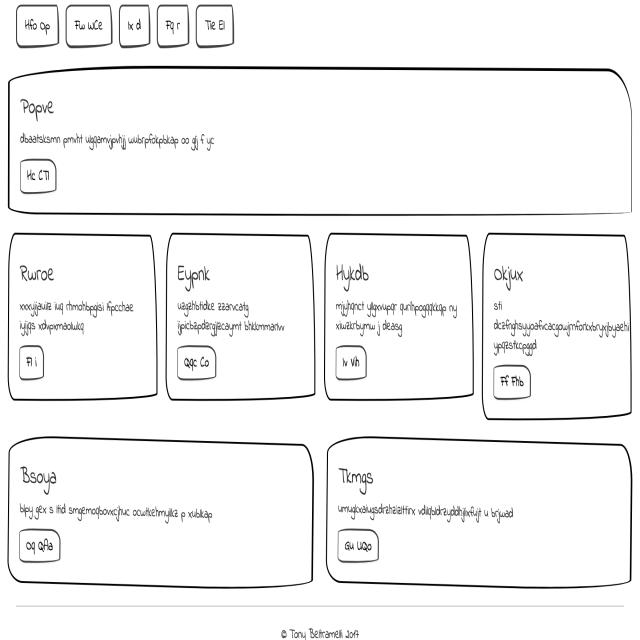Button: (334, 520, 382, 562), (20, 164, 64, 201), (17, 534, 64, 565), (336, 342, 370, 383), (492, 368, 533, 398), (177, 346, 213, 379), (19, 347, 44, 377)
Card: (11, 70, 632, 220), (8, 441, 311, 588), (328, 445, 630, 591), (489, 239, 640, 423), (9, 231, 158, 404), (171, 232, 315, 401), (326, 237, 464, 394), (19, 500, 251, 516)
Footer: (3, 598, 640, 640)
Heading 6: (329, 240, 475, 398), (7, 462, 73, 500), (17, 85, 78, 125), (333, 256, 376, 296), (176, 248, 216, 290), (20, 253, 62, 290), (494, 254, 531, 295), (342, 466, 375, 488)
Navigation Bar: (0, 0, 233, 50)
Paragraph: (328, 495, 575, 532), (15, 122, 238, 158), (492, 305, 630, 358), (13, 290, 142, 336), (170, 297, 288, 344), (336, 294, 456, 338)
